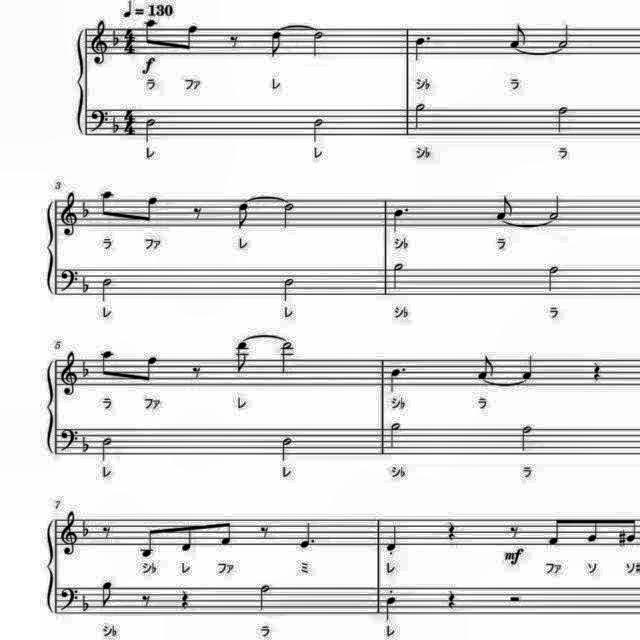Bass-clef: (58, 584, 82, 614), (58, 266, 82, 296), (58, 423, 80, 453), (90, 105, 110, 134)
Bemol: (79, 356, 93, 384), (77, 268, 91, 296), (107, 24, 123, 48), (79, 198, 93, 222), (79, 514, 93, 538), (78, 590, 92, 610), (79, 434, 93, 454), (110, 114, 122, 136)
Eighth-note: (136, 526, 160, 562), (138, 192, 162, 228), (138, 352, 162, 388), (547, 516, 569, 552), (98, 186, 119, 222), (98, 344, 119, 380), (179, 20, 201, 54), (506, 22, 532, 50), (266, 28, 288, 61), (180, 522, 200, 558), (492, 193, 516, 223), (232, 340, 252, 374), (474, 352, 498, 380), (216, 516, 236, 548), (584, 514, 604, 546), (140, 16, 160, 48), (234, 200, 254, 230), (99, 578, 117, 610), (623, 514, 640, 547), (639, 514, 640, 547)
Eighth-rest: (188, 202, 205, 224), (226, 30, 244, 50), (255, 522, 272, 542), (188, 362, 205, 382), (99, 522, 115, 542), (138, 590, 154, 610), (508, 522, 524, 542)
Half-dot: (411, 34, 435, 66), (390, 204, 414, 236)
Half-note: (277, 340, 297, 376), (542, 261, 562, 295), (254, 580, 274, 614), (383, 419, 402, 453), (518, 422, 538, 454), (278, 272, 298, 304), (388, 260, 408, 292), (309, 114, 329, 146), (308, 29, 328, 60), (411, 102, 429, 136), (278, 200, 298, 230), (548, 192, 566, 224), (554, 104, 572, 136), (141, 114, 159, 144), (278, 434, 296, 464), (99, 274, 117, 304), (556, 20, 574, 48), (99, 434, 115, 464)
Half-rest: (506, 590, 526, 606)
Quarter-dot: (296, 519, 318, 551), (386, 364, 408, 396)
Quarter-note: (384, 522, 404, 554), (520, 352, 538, 380), (384, 594, 401, 622)
Quarter-rest: (586, 357, 604, 383), (444, 585, 462, 611), (442, 520, 458, 546), (175, 587, 192, 611)
Treble-clef: (58, 348, 82, 398), (58, 189, 82, 239), (88, 20, 112, 68), (58, 508, 82, 556)
